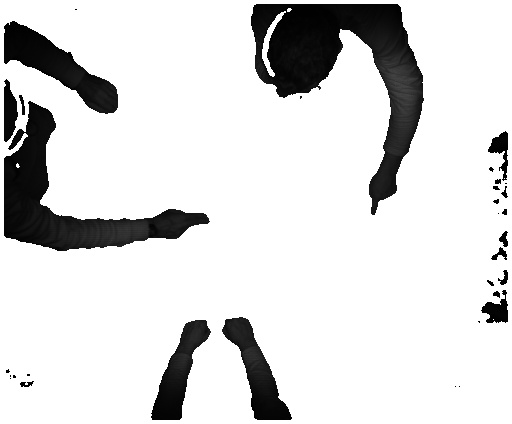fist: (81, 75, 119, 119), (221, 312, 259, 349), (179, 320, 215, 352)
hand: (156, 208, 215, 239), (368, 167, 404, 215)
